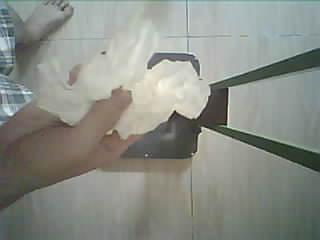paper: (38, 21, 209, 137)
